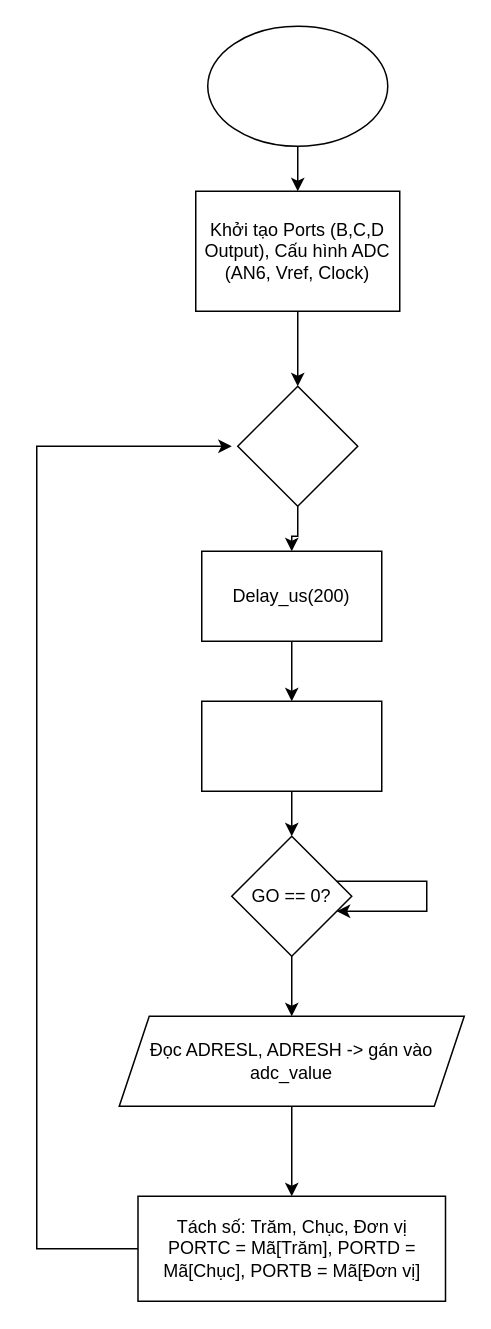
Image size: 491x1329. Some labels were removed from this diagram. The box of each missing label's shape, as (x1, y1, x2, y2) in pixels:
GO = 1 (Bắt đầu chuyển đổi): (200, 700, 382, 791)
start: (206, 25, 388, 146)
while(1): (236, 385, 358, 506)
